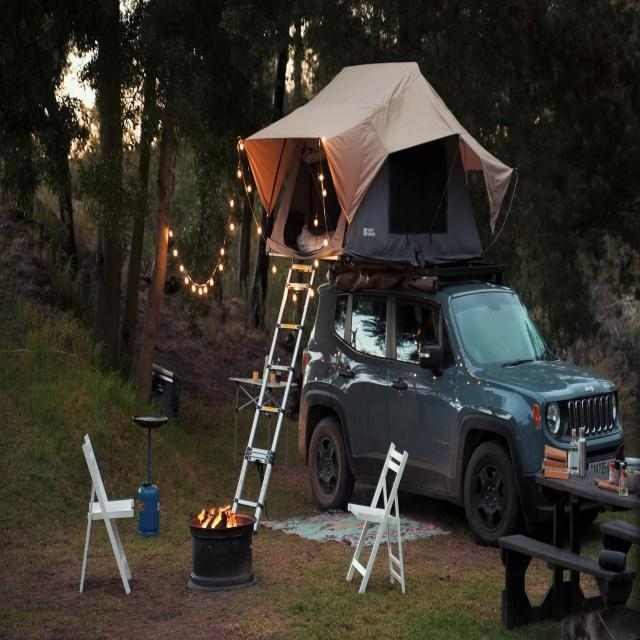Fire: (197, 493, 240, 532)
